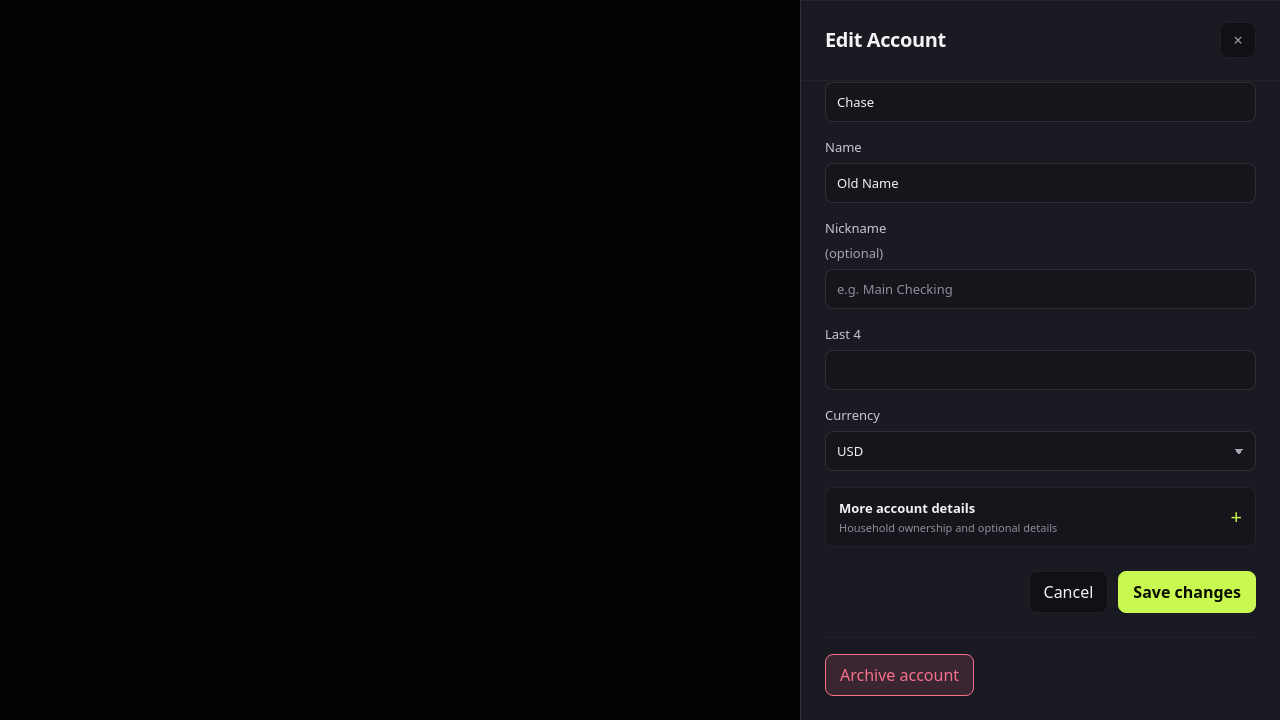
AccountDrawer — edit mode › two-click confirm on archive: first click shows confirm text
The width and height of the screenshot is (1280, 720).
(page scrolled)
Step 1. Click the button "Archive account" → (900, 675), box 825,654 -> 974,696
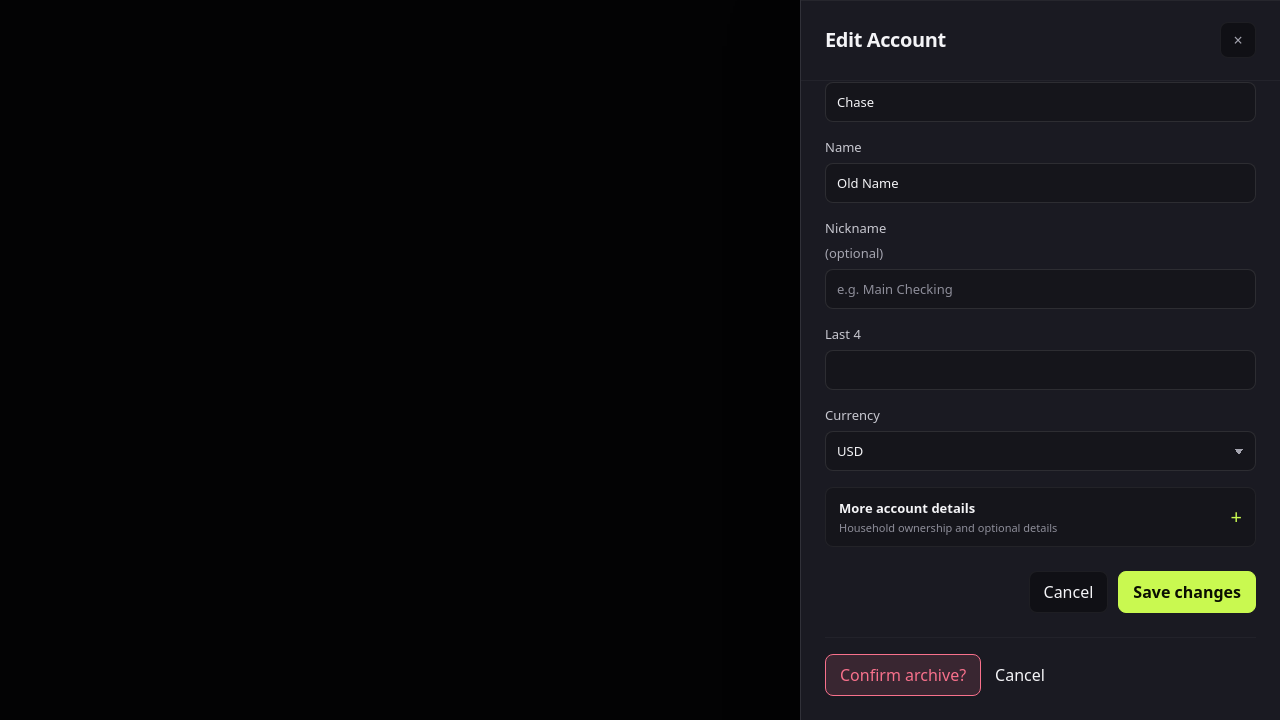
Result: the button "Confirm archive?" is shown at 825,654 -> 981,696
